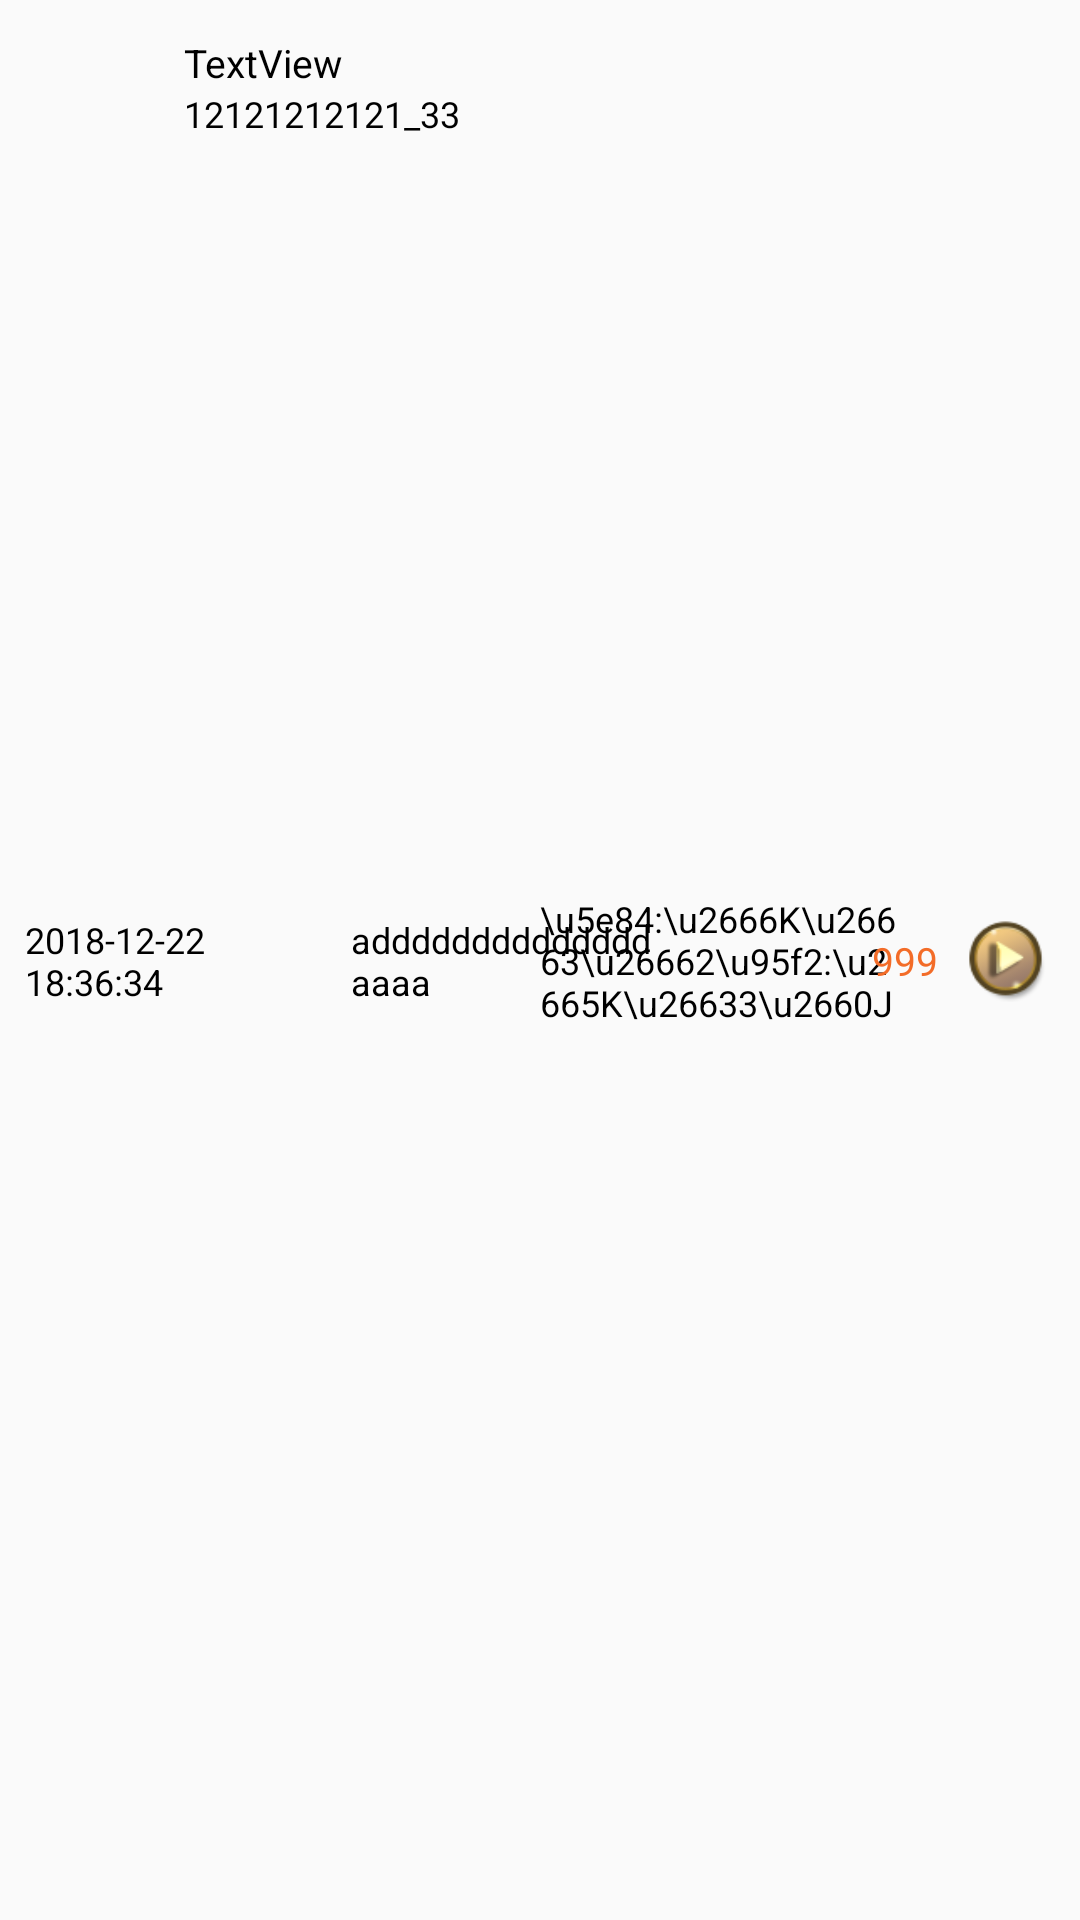

Named icons in this screenshot (1080px x 1920px) and their centers, (x,y):
replay: (1005,960)
